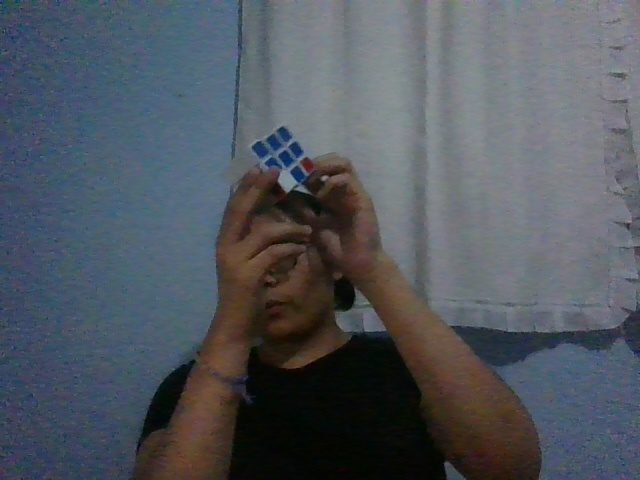rubik: (224, 125, 316, 215)
